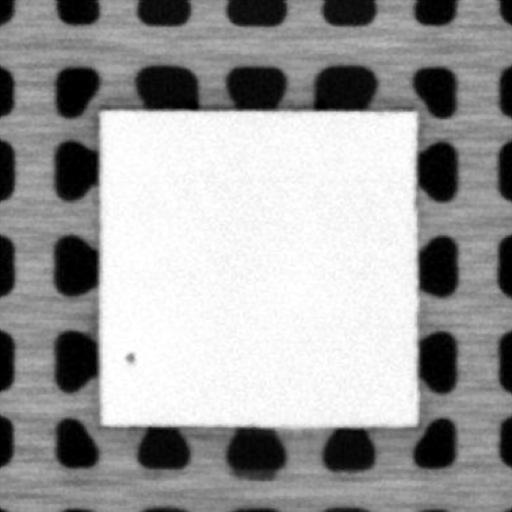DIE_INK: (120, 348, 136, 364)
